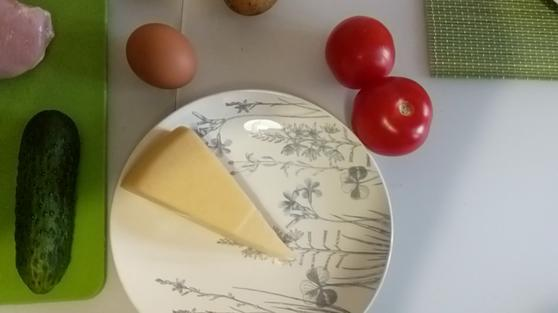cheese: (120, 122, 296, 266)
chicken_fillet: (1, 3, 56, 85)
cucumber: (14, 108, 84, 295)
egg: (124, 22, 203, 91)
tomato: (350, 76, 436, 158), (325, 16, 400, 92)
